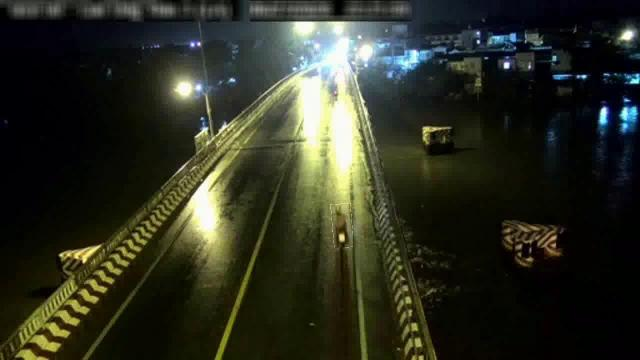Bike: (332, 204, 352, 248)
